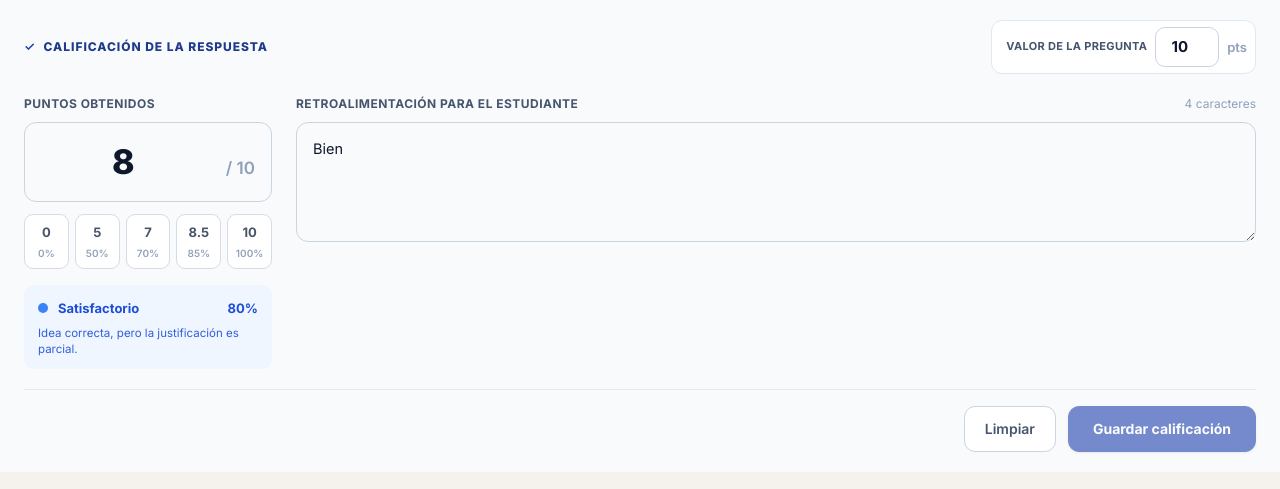
Test: QuestionGradingPanel › clears the success indicator once the teacher edits again
Replace the text in the number field labelled "Puntos obtenidos" with "9": coordinates (130, 162) [41, 133, 220, 191]
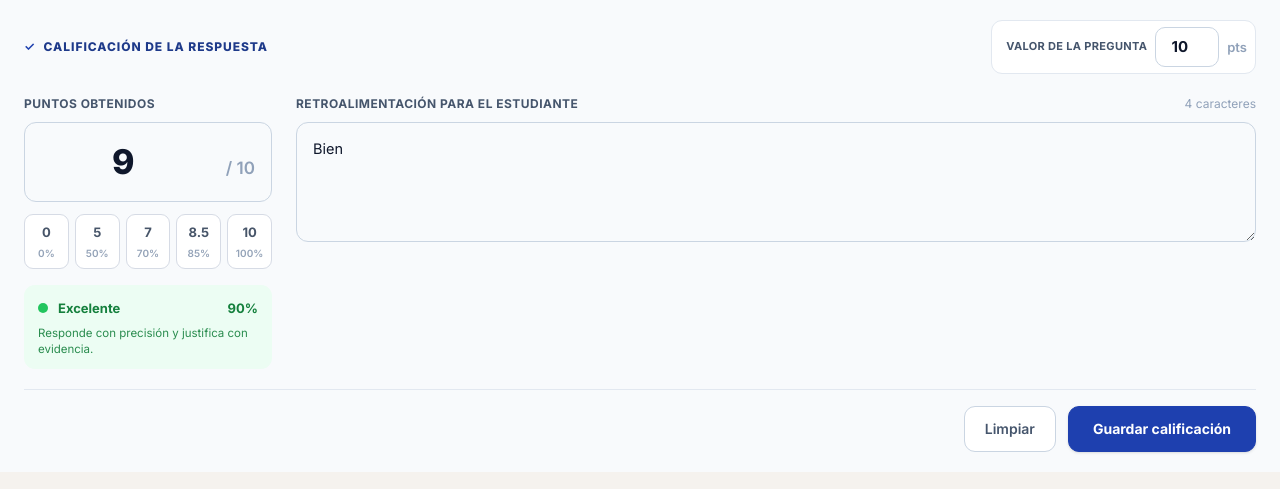
Click the button "Guardar calificación": coordinates (1162, 429) [1068, 406, 1256, 452]
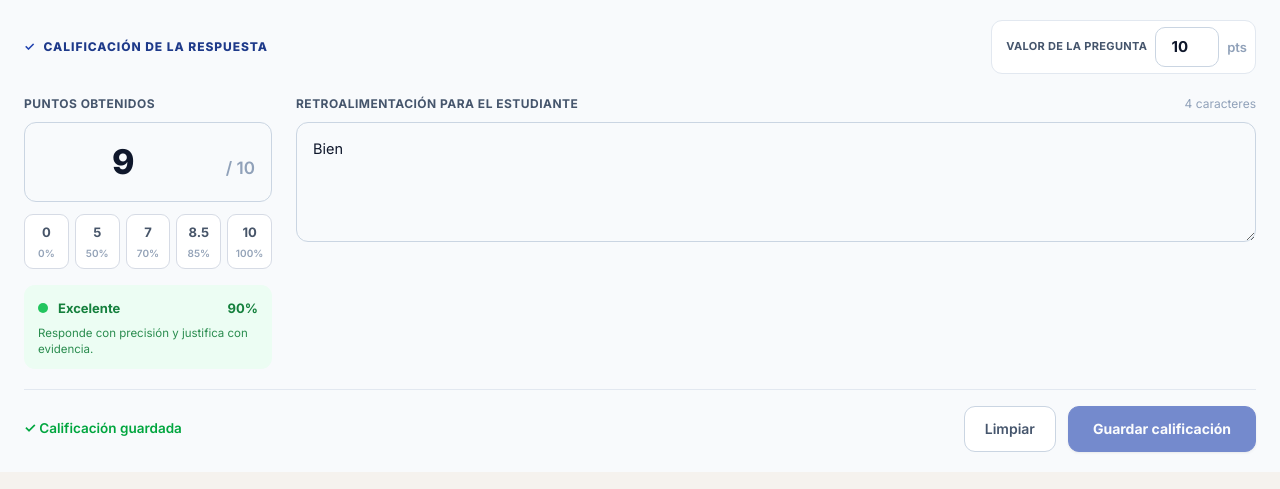
Expected: the text "✓ Calificación guardada" is shown, [24, 418, 182, 440]
Replace the text in the text box labelled "Retroalimentación para el estudiante" with "más": coordinates (776, 182) [296, 122, 1256, 242]
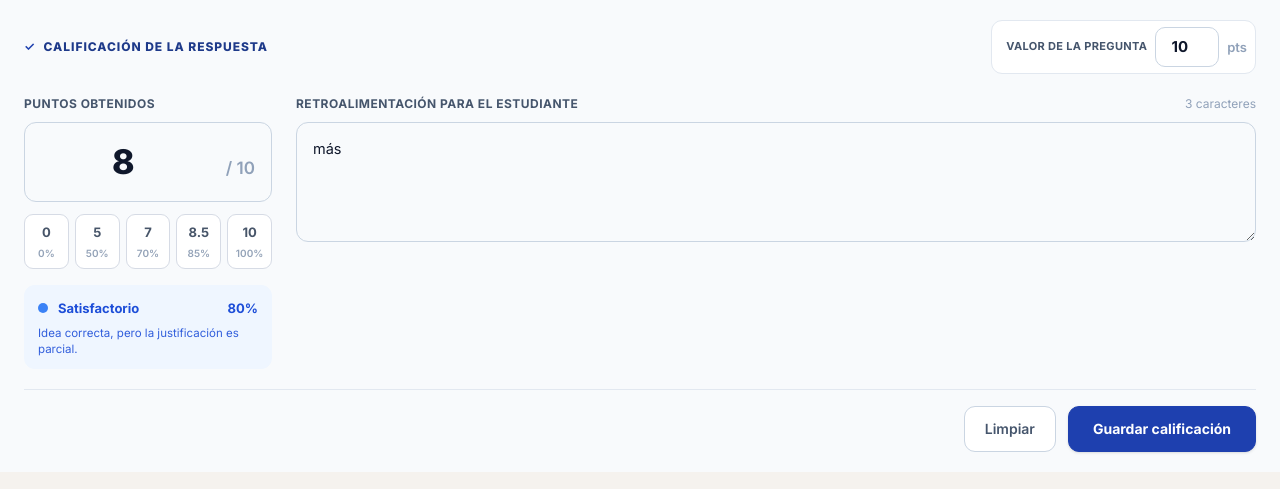
Expected: the text "Calificación guardada" is gone
